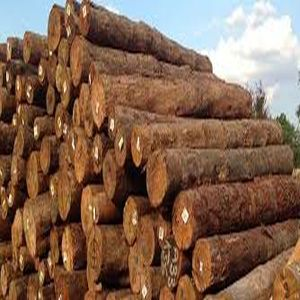log: (169, 190, 195, 250), (144, 148, 170, 206), (189, 238, 216, 293), (85, 225, 107, 284), (156, 241, 182, 290), (89, 76, 111, 131), (67, 36, 90, 88), (21, 200, 41, 258), (136, 214, 157, 266), (58, 221, 78, 275), (101, 149, 121, 202), (123, 244, 143, 297), (78, 185, 98, 237), (121, 194, 140, 246), (23, 151, 41, 201), (71, 138, 89, 187), (57, 171, 75, 218), (129, 124, 146, 171), (36, 134, 54, 175), (47, 4, 62, 53), (48, 103, 68, 139), (112, 125, 129, 166), (61, 1, 79, 39), (58, 69, 74, 110), (10, 209, 26, 250), (107, 107, 122, 146), (24, 73, 41, 106), (93, 133, 106, 176), (8, 151, 22, 189), (11, 71, 26, 106), (75, 83, 93, 111), (32, 260, 50, 287), (21, 30, 34, 65), (79, 1, 91, 36), (3, 62, 14, 98), (70, 98, 83, 127), (43, 84, 55, 115), (30, 116, 44, 142), (1, 264, 11, 297), (4, 36, 15, 64), (90, 197, 103, 220), (14, 249, 27, 272)
